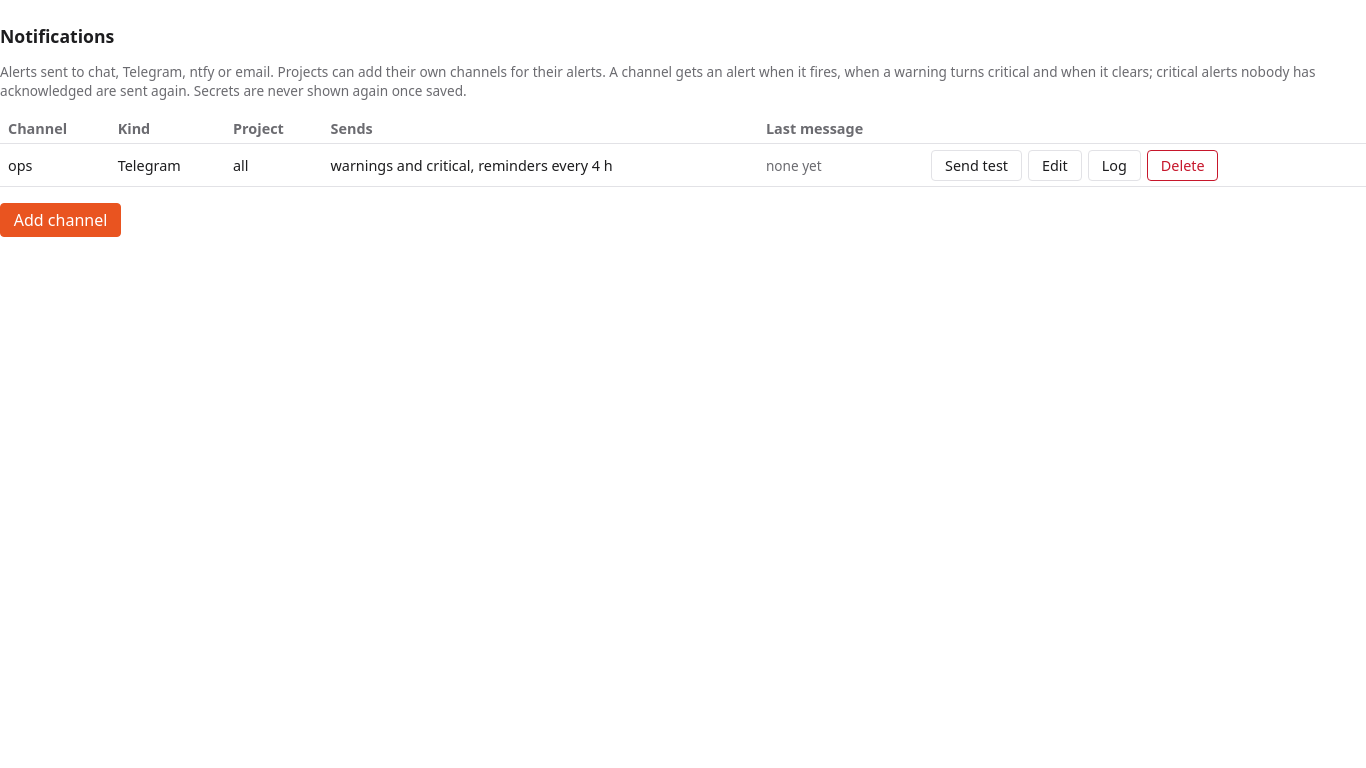
Test: Notifications (D94) › finds chats with a saved bot's token, and reports a failed test
The image size is (1366, 768).
Click the button "Send test" at (977, 165), box [931,150,1022,181]
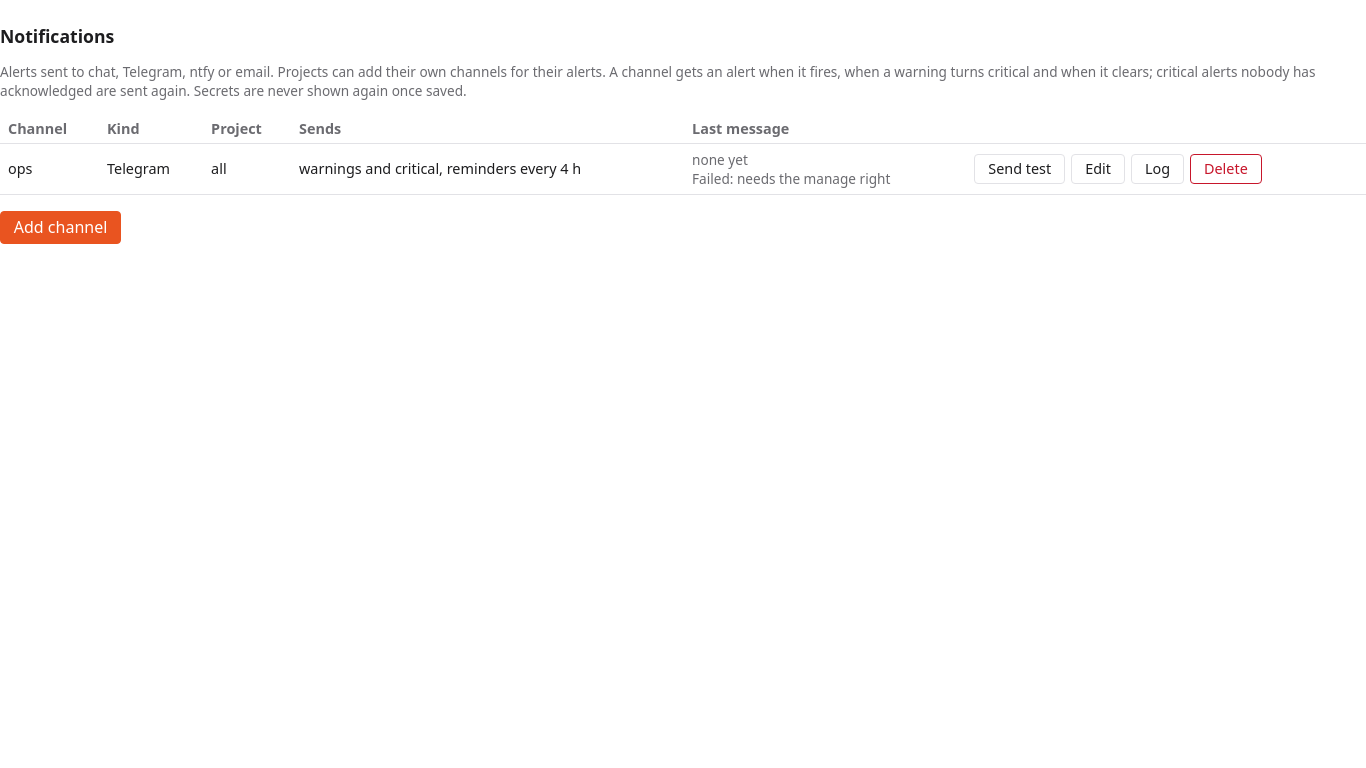
Expected: the text "Failed: needs the manage right" is shown, [692,169,890,188]
Click the button "Edit" at (1098, 169), box [1071,154,1125,184]
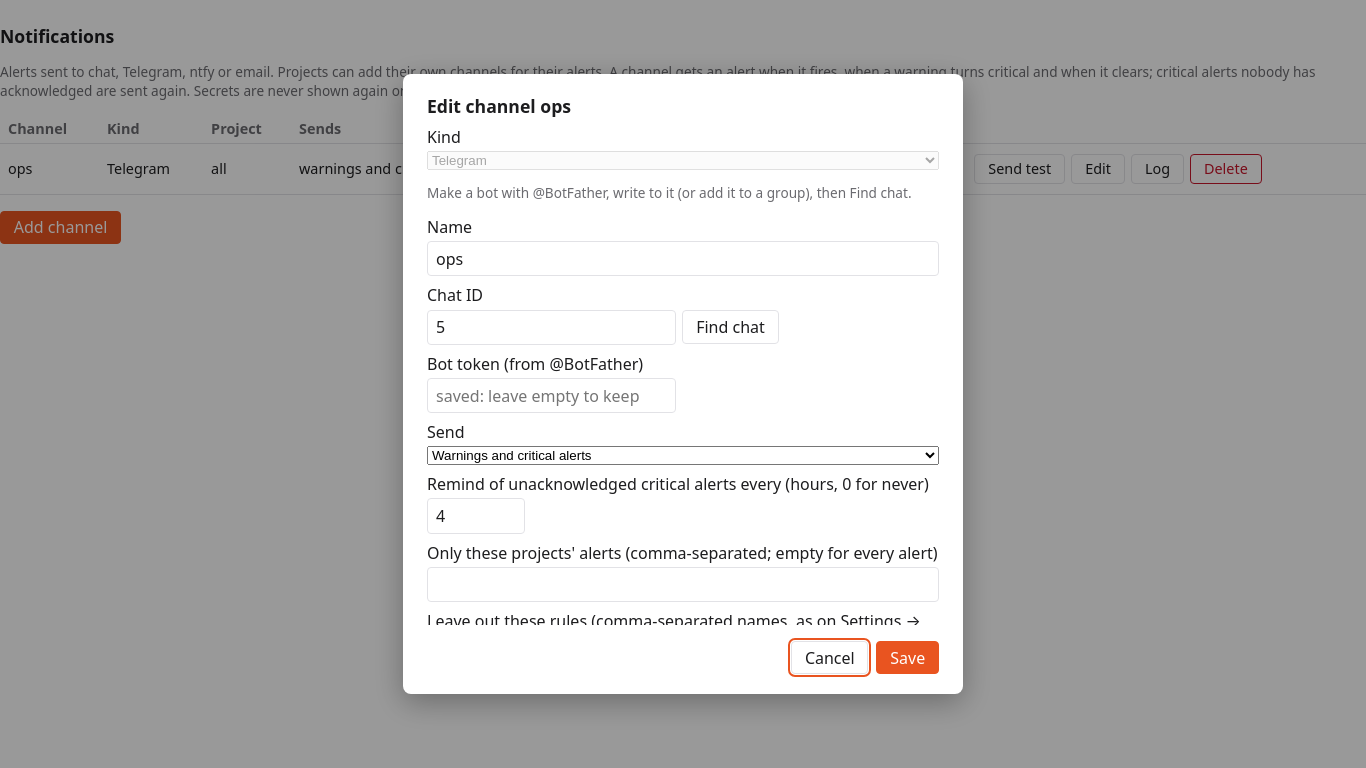
Click the button "Find chat" at (730, 327), box [682,310,779,344]
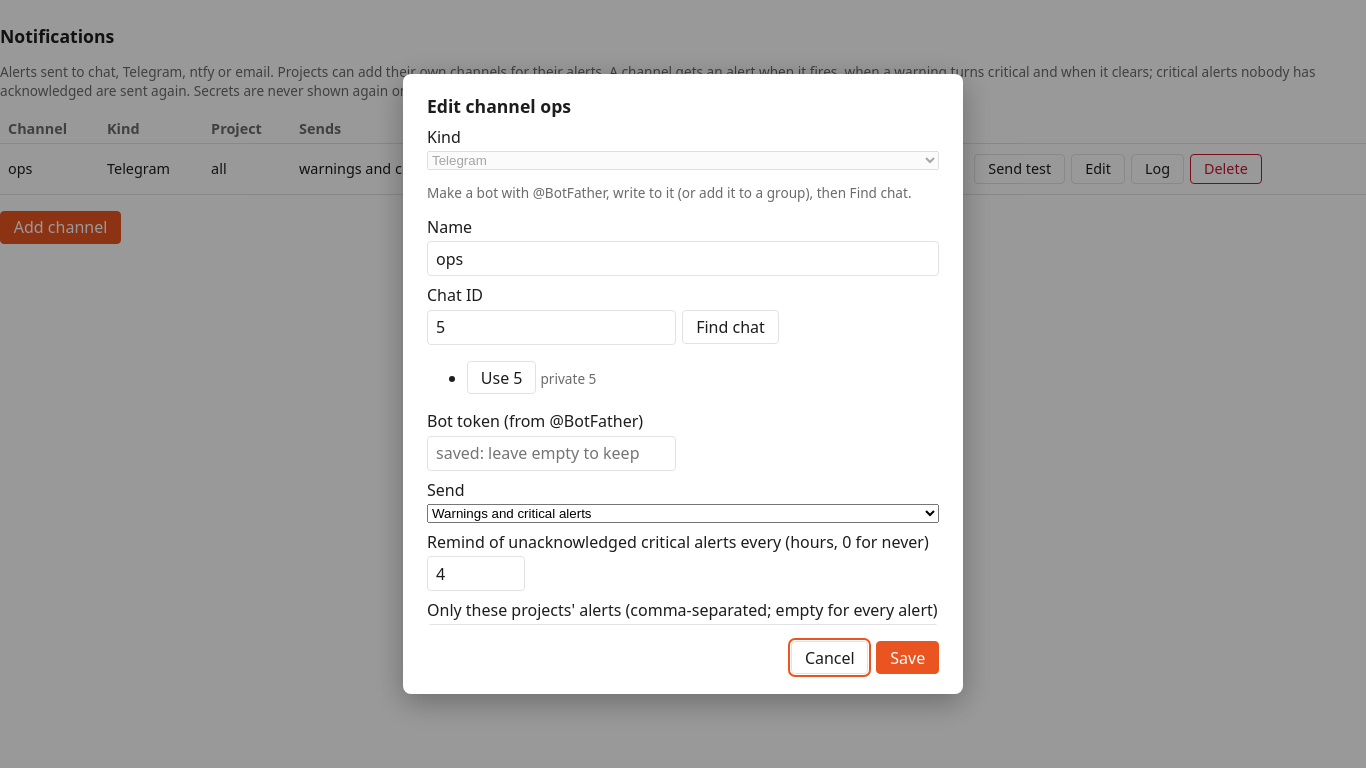
Expected: the button "Use 5" is shown, [467,361,536,394]
